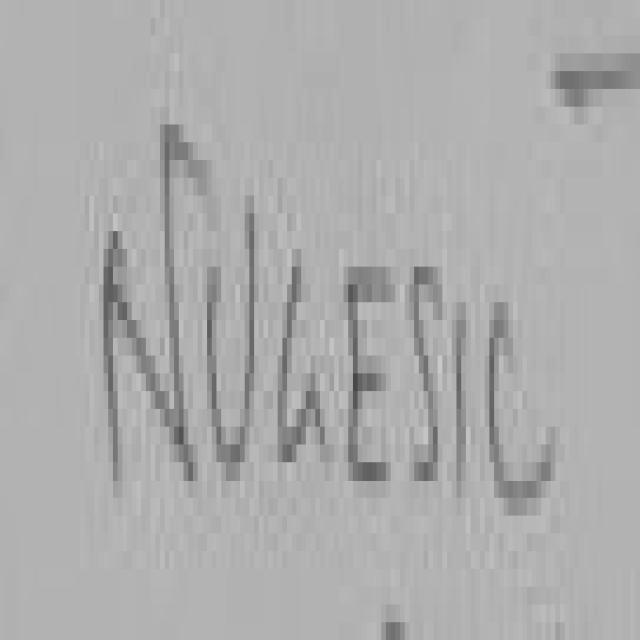C: (489, 302, 555, 516)
E: (348, 267, 395, 484)
G: (279, 267, 325, 454)
I: (456, 302, 471, 489)
N: (104, 124, 205, 480)
S: (413, 267, 442, 491)
U: (207, 196, 259, 480)
